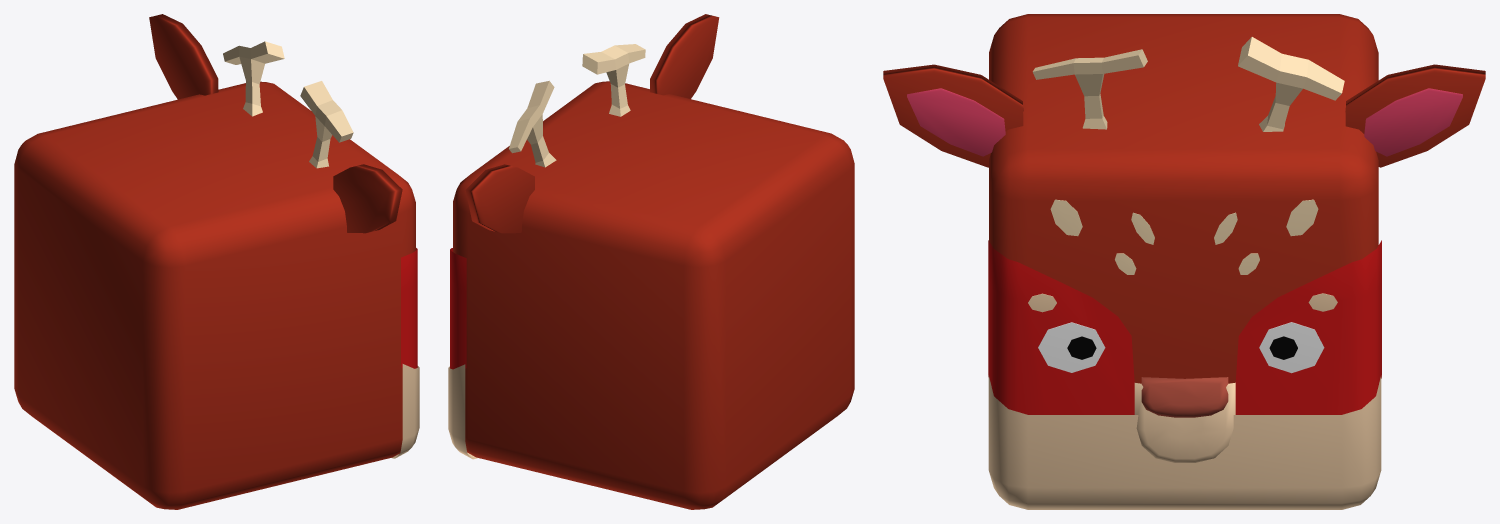
The model's file is deer.fbx.
3 views of the same model, side by side, from view 1: azimuth 30°, elevation 25°; view 2: azimuth 150°, elevation 25°; view 3: azimuth 270°, elevation 25° (orthographic). The views are drawn at different scales.
Visible parts, largest first — view 1: Cylinder.013, Cylinder.020, Cube.002, Cylinder.019, Cube.006; view 2: Cylinder.013, Cylinder.020, Cylinder.019, Cube.002, Cube.006; view 3: Cylinder.013, Cube.006, Cube.002, Cylinder.018, Cylinder.003, Cylinder.019, Cylinder.002, Cylinder.009, Cylinder.020, Cylinder.005, Cylinder.001, Cylinder.015.
Boxes of the visible parts, left/top/right/bottom form: Cylinder.013: left=14, top=14, right=415, bottom=509; Cylinder.020: left=300, top=81, right=353, bottom=168; Cube.002: left=401, top=248, right=417, bottom=368; Cylinder.019: left=223, top=41, right=284, bottom=116; Cube.006: left=391, top=364, right=419, bottom=458; Cylinder.013: left=453, top=14, right=854, bottom=509; Cylinder.020: left=582, top=44, right=645, bottom=116; Cylinder.019: left=509, top=80, right=556, bottom=167; Cube.002: left=450, top=248, right=466, bottom=369; Cube.006: left=448, top=364, right=477, bottom=459; Cylinder.013: left=883, top=14, right=1485, bottom=383; Cube.006: left=988, top=375, right=1381, bottom=509; Cube.002: left=988, top=240, right=1381, bottom=414; Cylinder.018: left=907, top=88, right=1462, bottom=156; Cylinder.003: left=1134, top=382, right=1235, bottom=462; Cylinder.019: left=1238, top=37, right=1344, bottom=131; Cylinder.002: left=1141, top=377, right=1228, bottom=417; Cylinder.009: left=1050, top=199, right=1318, bottom=274; Cylinder.020: left=1032, top=49, right=1147, bottom=129; Cylinder.005: left=1038, top=322, right=1105, bottom=372; Cylinder.001: left=1259, top=322, right=1324, bottom=373; Cylinder.015: left=1028, top=293, right=1337, bottom=312.
Bounding box in the file's own units: 209 × 252 × 306.
